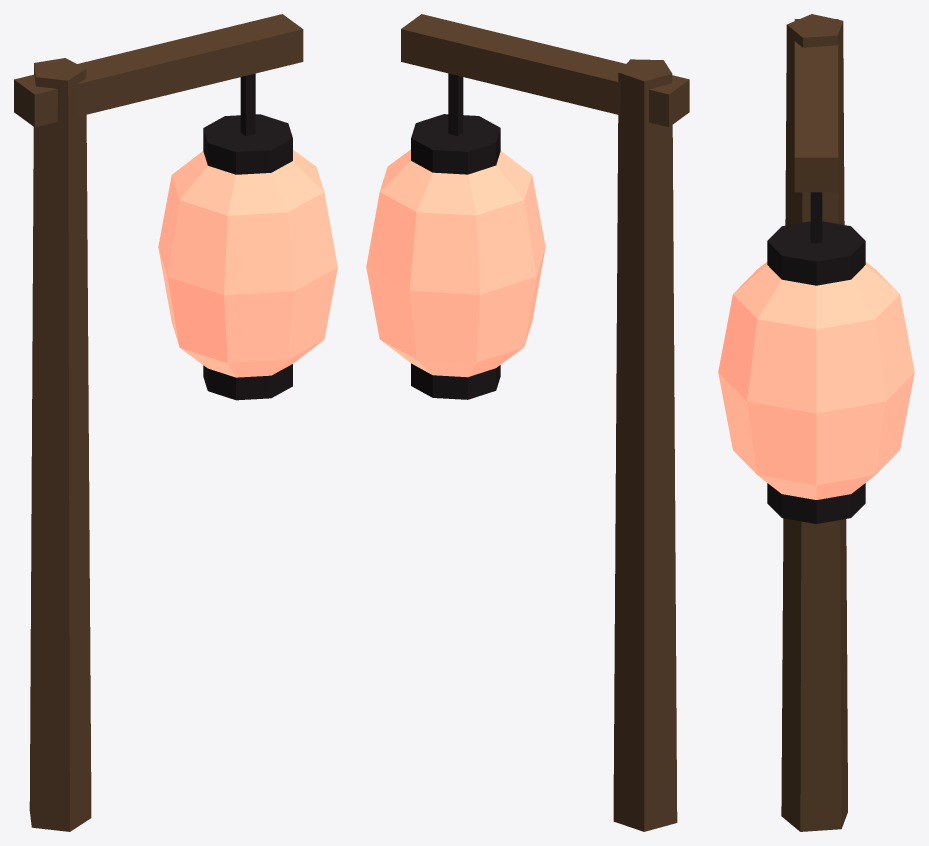
File: deco_lantern.glb
3 views of the same model, side by side, from view 1: azimuth 30°, elevation 25°; view 2: azimuth 150°, elevation 25°; view 3: azimuth 270°, elevation 25° (orthographic). The views are drawn at different scales.
Visible parts, largest first — view 1: deco_lantern_mesh; view 2: deco_lantern_mesh; view 3: deco_lantern_mesh.
Part boxes in pixels (x1,y1,x2,y2): deco_lantern_mesh: (14, 14, 337, 831); deco_lantern_mesh: (366, 14, 689, 831); deco_lantern_mesh: (718, 14, 914, 831).
Bounding box in the file's own units: 0.136 × 0.32 × 0.072.
